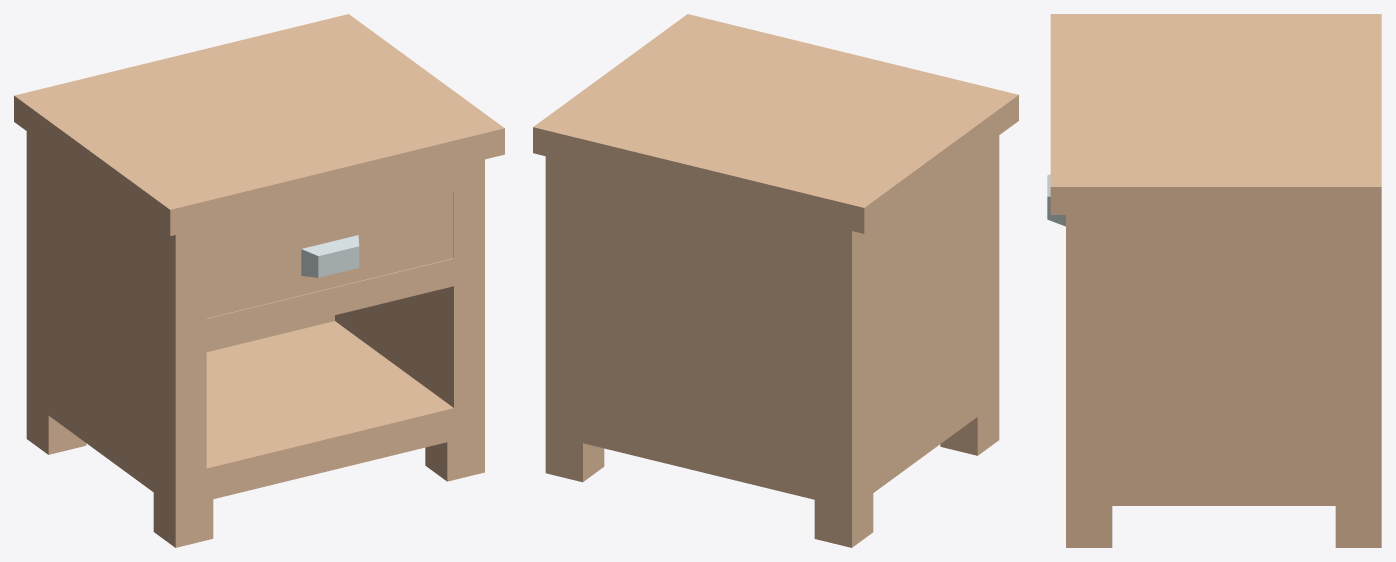
The model's file is bookCase.glb.
The picture shows the model from 3 angles, left to right: view 1: azimuth 30°, elevation 25°; view 2: azimuth 150°, elevation 25°; view 3: azimuth 270°, elevation 25°; orthographic projection. The views are drawn at different scales.
Parts seen in each view (by area): view 1: cabinetBedDrawer(Clone), drawer; view 2: cabinetBedDrawer(Clone); view 3: cabinetBedDrawer(Clone).
Boxes of the visible parts, x1=… form: cabinetBedDrawer(Clone): x1=14, y1=14, x2=504, y2=547; drawer: x1=206, y1=192, x2=453, y2=318; cabinetBedDrawer(Clone): x1=533, y1=14, x2=1018, y2=547; cabinetBedDrawer(Clone): x1=1050, y1=14, x2=1381, y2=547.
Size of the model in its own units: 0.266 by 0.2632 by 0.2173.
